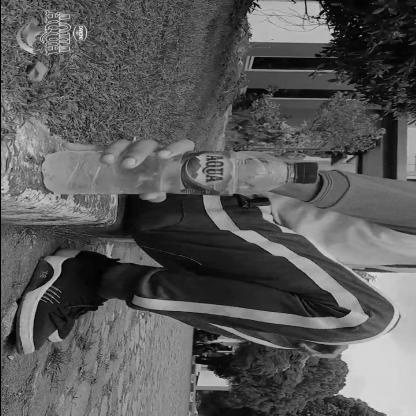plastic_bottles: (40, 142, 334, 194)
